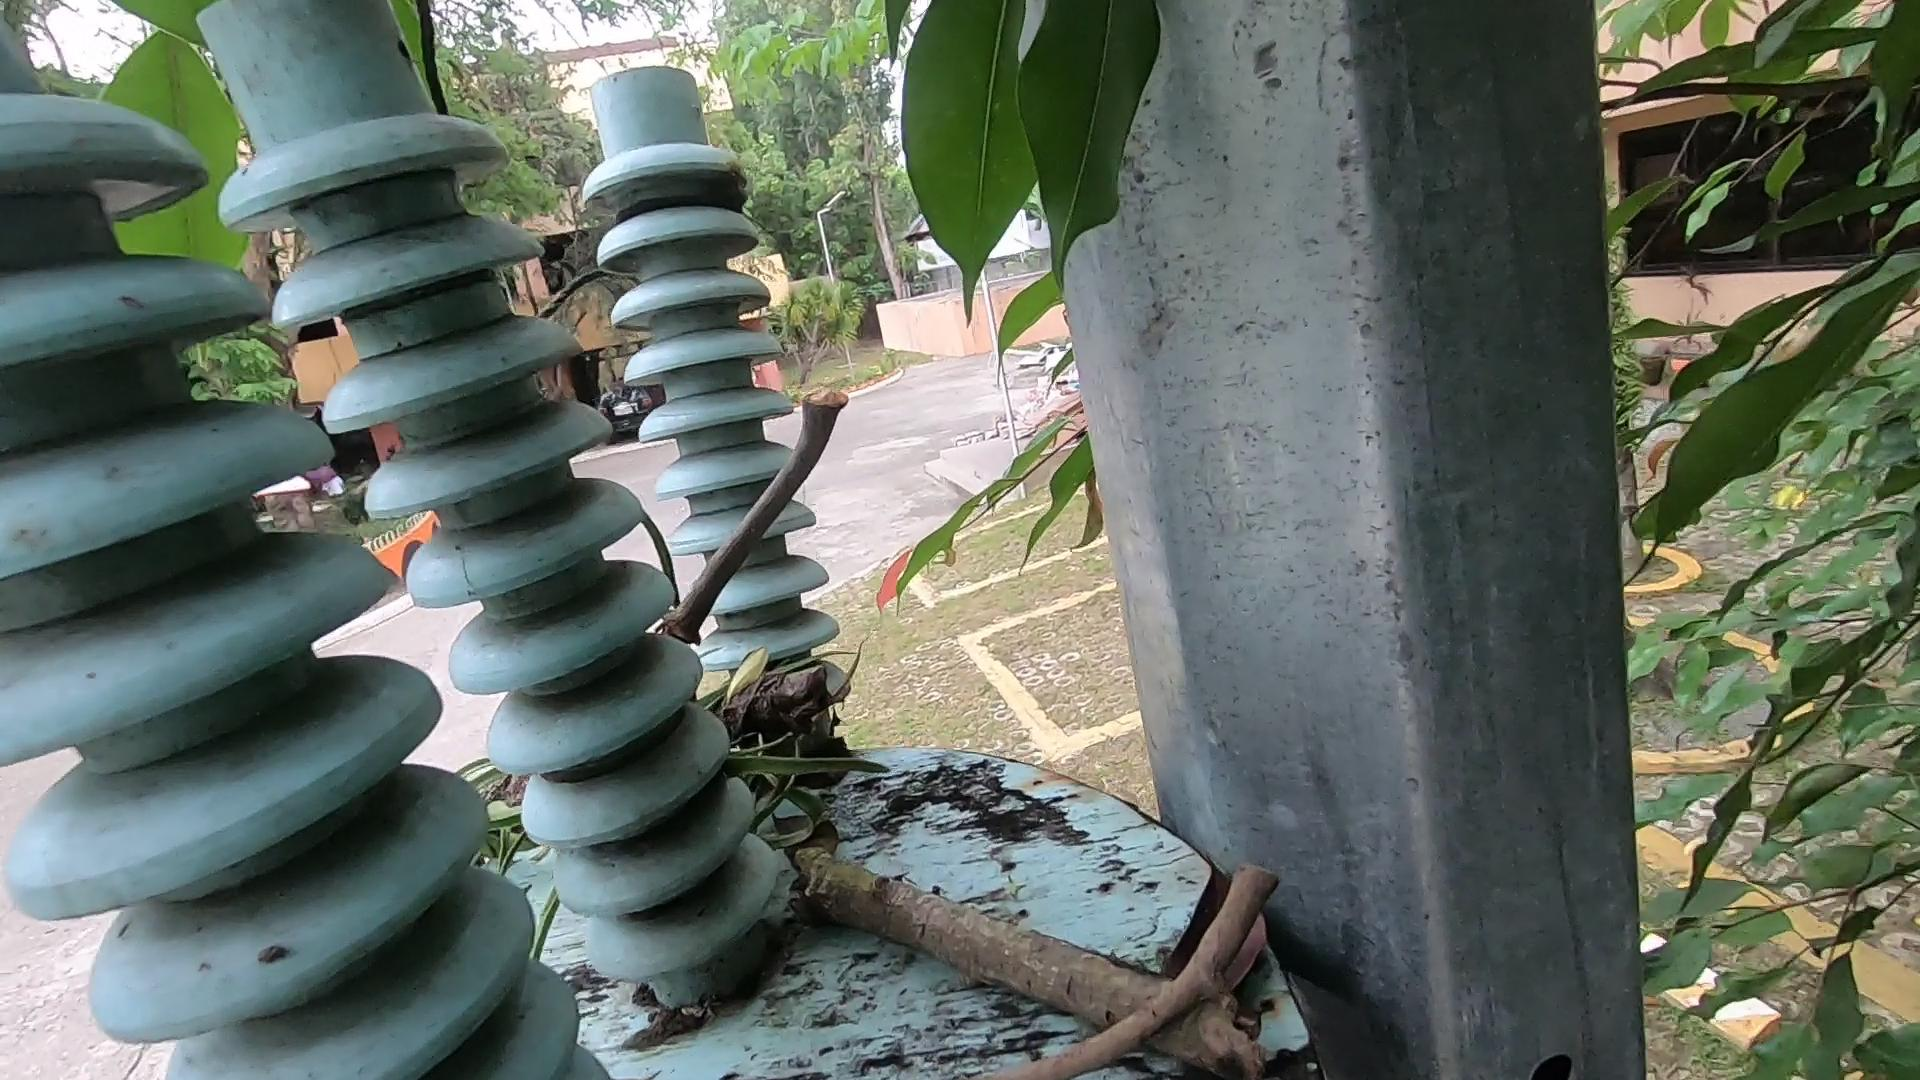branch with leaves: (626, 592, 1298, 1080)
tree branch: (653, 378, 918, 707), (1015, 815, 1273, 1080)
